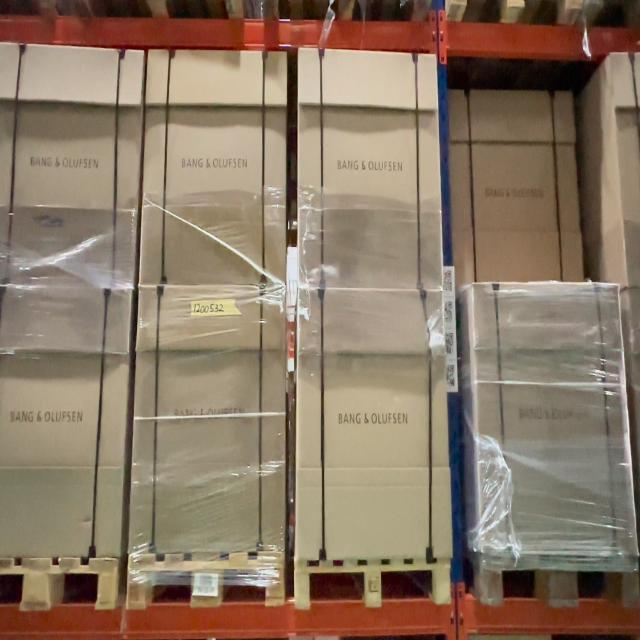box: (476, 285, 635, 558), (295, 291, 447, 559), (135, 289, 286, 550), (300, 48, 439, 290), (147, 50, 287, 287)
